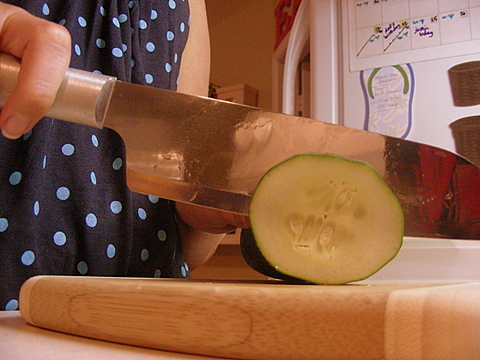cucumber: (248, 151, 404, 285)
